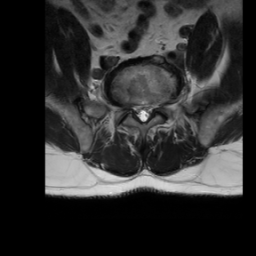CCS_normal: (140, 101, 146, 127)
LFS_stenosis: (152, 95, 159, 116)
LLS_normal: (146, 99, 152, 124)
RFS_severe_stenosis: (126, 96, 133, 118)
RLS_normal: (133, 99, 140, 124)
